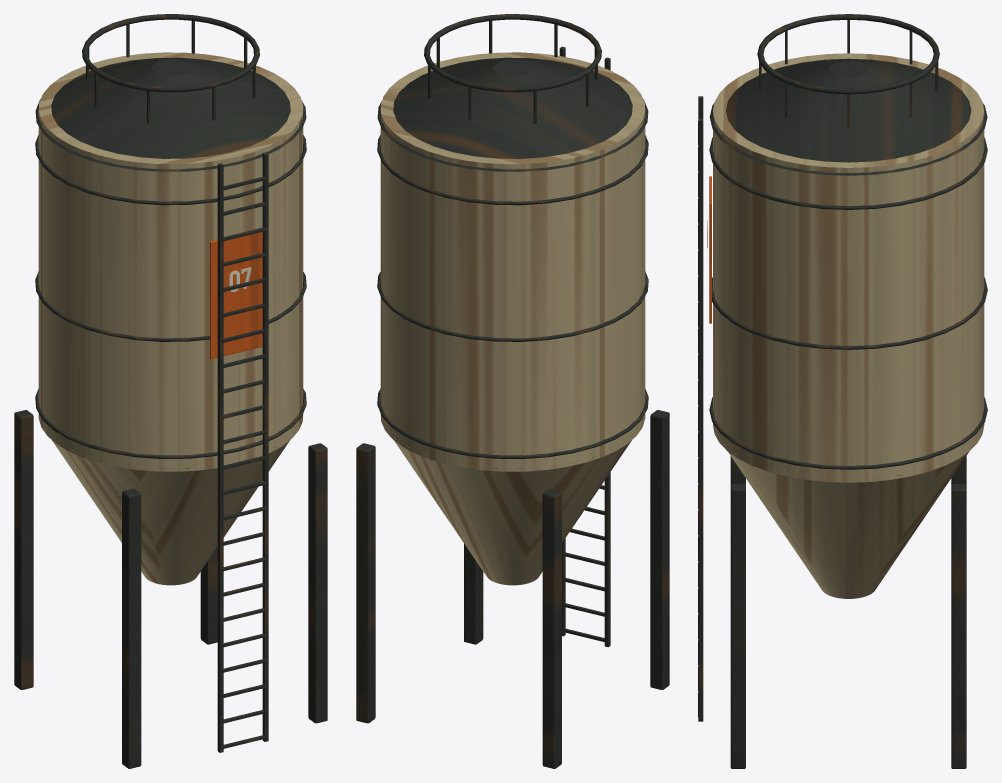
The model's file is silo.obj.
3 views of the same model, side by side, from view 1: azimuth 30°, elevation 25°; view 2: azimuth 150°, elevation 25°; view 3: azimuth 270°, elevation 25° (orthographic). The views are drawn at different scales.
Parts seen in each view (by area): view 1: silo; view 2: silo; view 3: silo.
Boxes of the visible parts, x1=… form: silo: x1=14, y1=14, x2=327, y2=768; silo: x1=356, y1=14, x2=669, y2=768; silo: x1=698, y1=14, x2=987, y2=768.
Size of the model in its own units: 2.53 by 6.69 by 2.63.
Materials: 1 (1 with a texture image).
